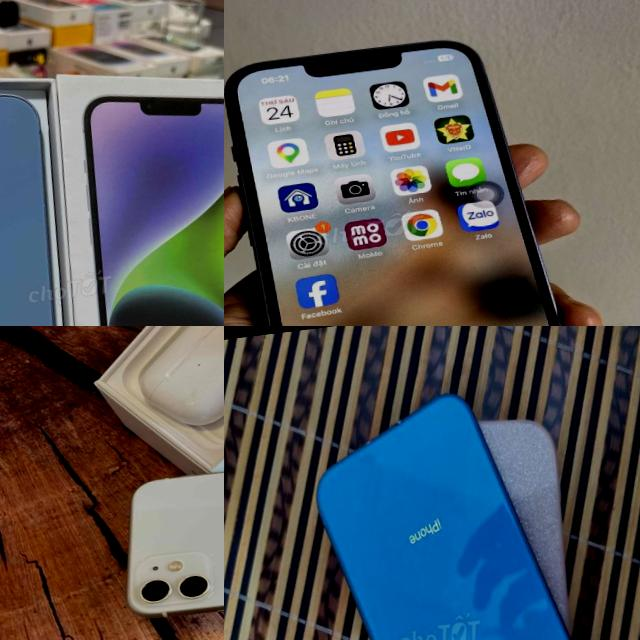gen_11: (99, 425, 224, 640)
gen_14: (224, 9, 598, 326), (0, 66, 86, 326)
gen_x_xs: (316, 395, 571, 640)
